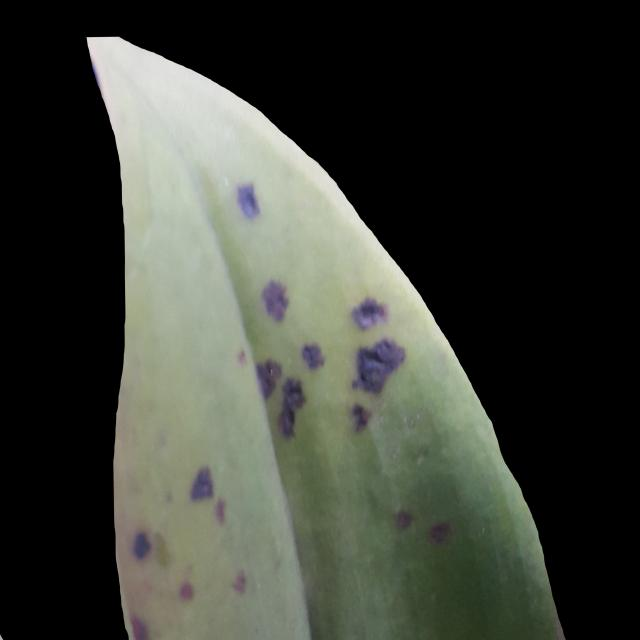mite: (126, 285, 489, 627), (208, 176, 457, 554), (250, 278, 408, 441), (128, 462, 219, 564), (254, 355, 308, 439), (389, 503, 456, 548), (276, 375, 307, 438), (350, 295, 388, 331), (254, 357, 283, 400), (189, 464, 215, 502), (299, 340, 326, 371), (348, 401, 372, 433), (276, 407, 297, 438)
